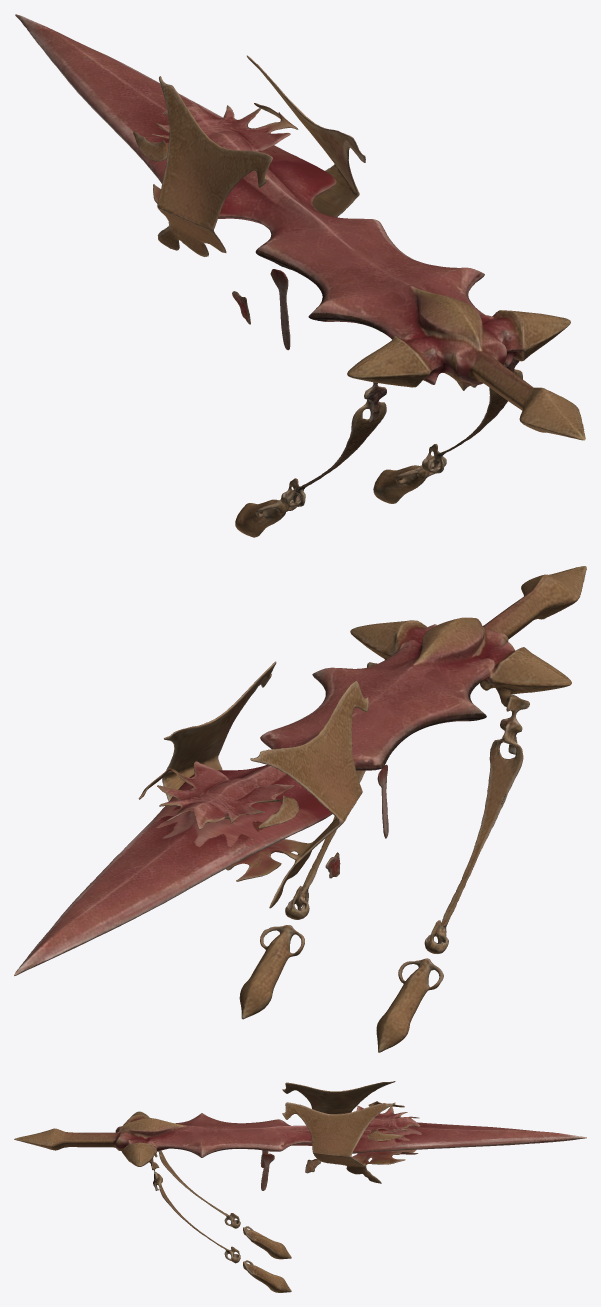
File: divine-red-sword-4744.glb
3 renders of one model, top to bottom at view 1: azimuth 30°, elevation 25°; view 2: azimuth 150°, elevation 25°; view 3: azimuth 270°, elevation 25°, orthographic. The views are drawn at different scales.
Parts seen in each view (by area): view 1: Mesh_0; view 2: Mesh_0; view 3: Mesh_0.
Boxes of the visible parts, bbox=[...] form: Mesh_0: bbox=[15, 14, 585, 537]; Mesh_0: bbox=[14, 566, 586, 1052]; Mesh_0: bbox=[14, 1081, 586, 1292].
Size of the model in its own units: 0.424 by 0.6746 by 1.9.
Materials: 1 (1 with a texture image).
